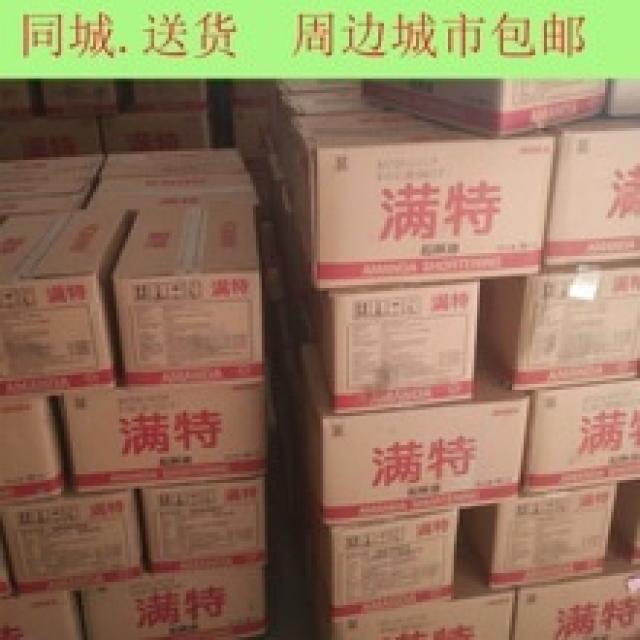box: (279, 108, 559, 285), (291, 343, 527, 518), (282, 215, 483, 410), (111, 207, 265, 381), (0, 209, 137, 399), (55, 378, 271, 492), (303, 465, 460, 617), (305, 538, 518, 640), (480, 259, 640, 393), (460, 483, 620, 588), (0, 486, 148, 593), (544, 113, 637, 271), (518, 375, 640, 495), (76, 567, 271, 640), (364, 79, 608, 137), (137, 474, 271, 570), (268, 79, 390, 175), (512, 547, 640, 637), (0, 390, 67, 506), (79, 172, 259, 209), (102, 108, 215, 151), (96, 145, 244, 177), (0, 116, 105, 160), (0, 585, 84, 640), (0, 177, 96, 215), (230, 79, 271, 160), (116, 79, 212, 113), (0, 151, 111, 180), (38, 79, 119, 116), (611, 480, 640, 564), (259, 215, 285, 303), (0, 506, 17, 602), (0, 79, 38, 119), (608, 76, 640, 116)
